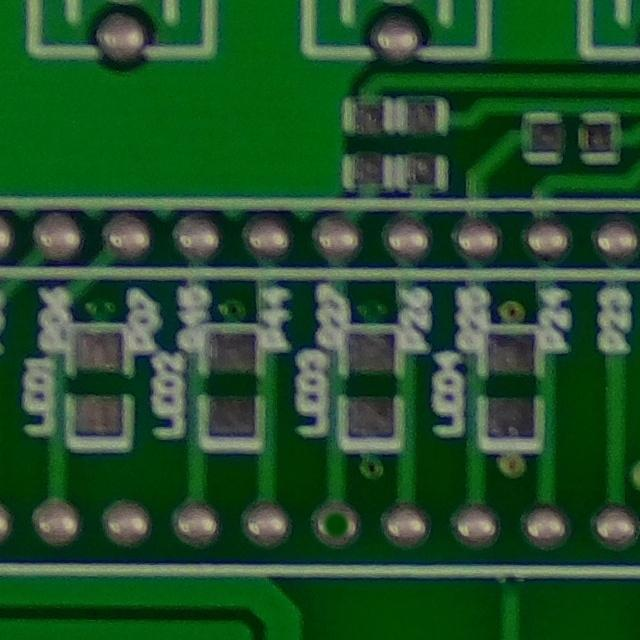missing_hole: (307, 490, 368, 557)
